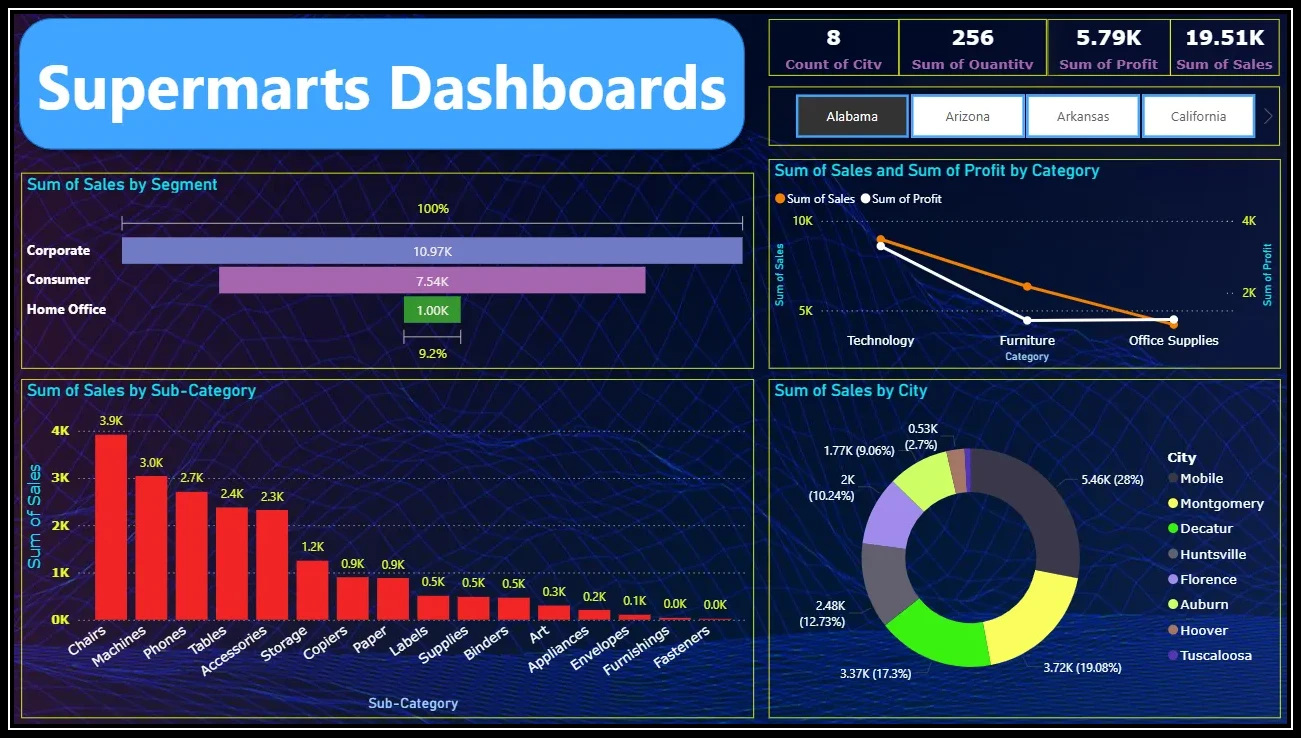

The dashboard page shown, as its layout file describes it:
{"tool":"powerbi","page":{"name":"Major_Project","canvas":[1280,720],"ordinal":0},"visuals":[{"type":"card","fields":{"Values":["Sum(Superstore.Sales)"]},"box":[1160.6,9.7,109.8,56.7],"z":0},{"type":"card","fields":{"Values":["Sum(Superstore.Profit)"]},"box":[1037.5,9.7,123.1,56.7],"z":1000},{"type":"card","fields":{"Values":["Count(Superstore.City)"]},"box":[758.9,9.7,130.3,56.7],"z":2000},{"type":"card","fields":{"Values":["Sum(Superstore.Quantity)"]},"box":[889.1,9.7,148.4,56.7],"z":3000},{"type":"columnChart","fields":{"Category":["Superstore.Sub-Category"],"Y":["Sum(Superstore.Sales)"]},"box":[11,370.5,732.8,338.9],"z":4000},{"type":"slicer","fields":{"Values":["Superstore.State"]},"box":[758.9,77.2,511.5,59.1],"z":5000},{"type":"donutChart","fields":{"Category":["Superstore.City"],"Y":["Sum(Superstore.Sales)"]},"box":[758.8,370.5,511.8,338.9],"z":6000},{"type":"funnel","fields":{"Category":["Superstore.Segment"],"Y":["Sum(Superstore.Sales)"]},"box":[11,163.3,732.8,196.2],"z":7000},{"type":"lineChart","fields":{"Category":["Superstore.Category"],"Y":["Sum(Superstore.Sales)"],"Y2":["Sum(Superstore.Profit)"]},"box":[758.8,149.6,511.8,209.9],"z":8000},{"type":"shape","box":[0,0,743.7,149.6],"z":9000}]}

Visuals, with their boxes in screenshot pixels (x1, y1, x2, y2), scaled from the page's 1280x720 canvas onto the 1301x738 screenshot:
card - Sum(Superstore.Sales): 1180, 10, 1291, 68
card - Sum(Superstore.Profit): 1055, 10, 1180, 68
card - Count(Superstore.City): 771, 10, 904, 68
card - Sum(Superstore.Quantity): 904, 10, 1055, 68
columnChart - Superstore.Sub-Category x Sum(Superstore.Sales): 11, 380, 756, 727
slicer - Superstore.State: 771, 79, 1291, 140
donutChart - Superstore.City x Sum(Superstore.Sales): 771, 380, 1291, 727
funnel - Superstore.Segment x Sum(Superstore.Sales): 11, 167, 756, 368
lineChart - Superstore.Category x Sum(Superstore.Sales): 771, 153, 1291, 368
shape: 0, 0, 756, 153
